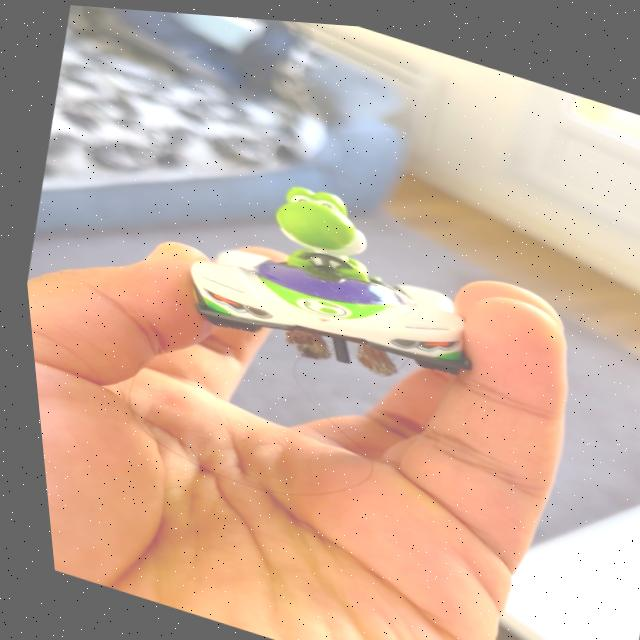yoshi: (139, 129, 513, 394)
